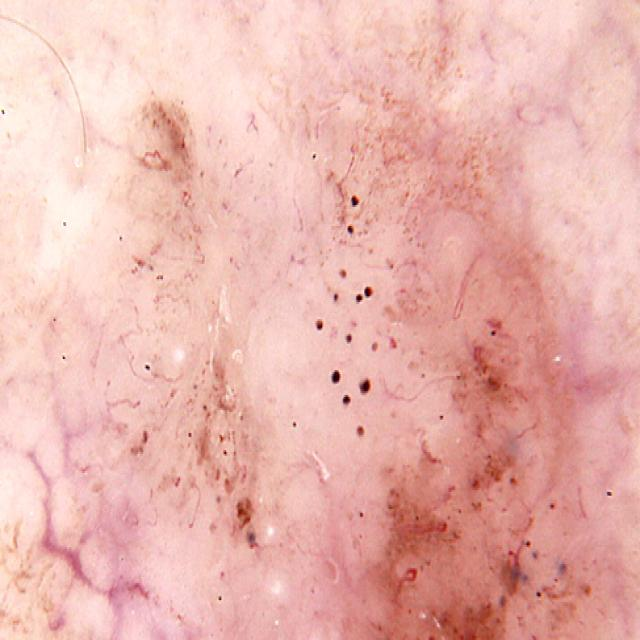Carcinoma: (310, 161, 606, 640), (89, 94, 300, 581)
